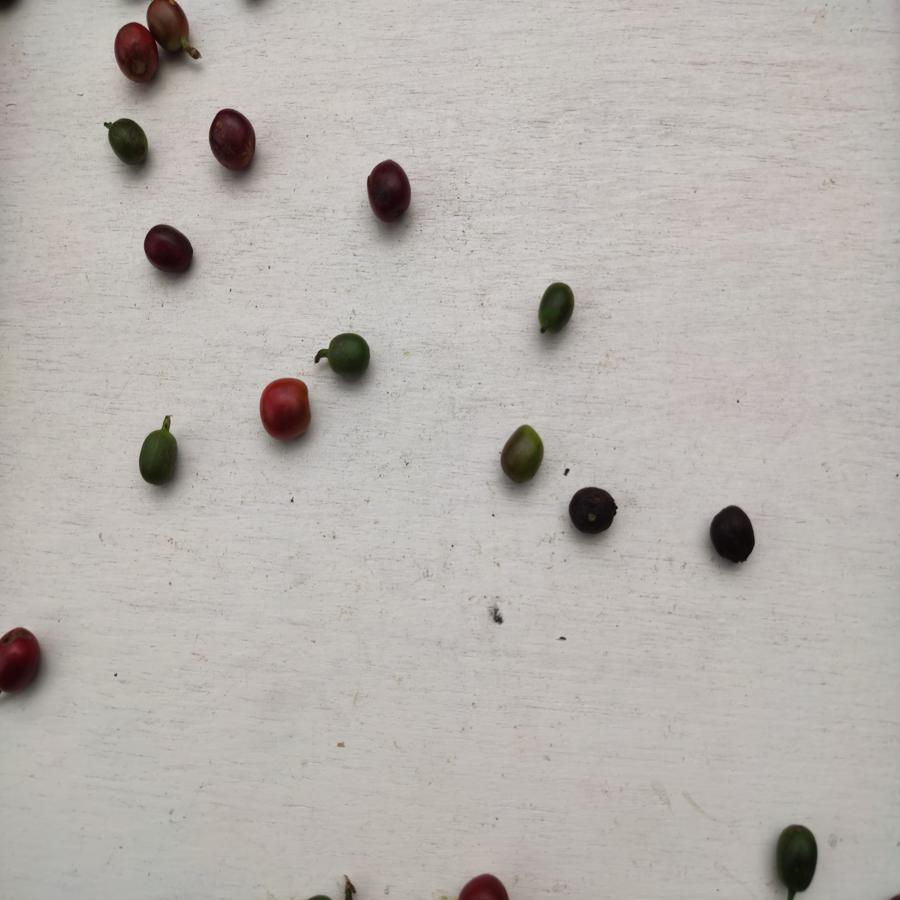Inmaduro: (776, 815, 821, 889), (136, 427, 184, 488), (535, 281, 581, 335), (322, 332, 370, 381), (104, 116, 146, 163)
Maduro: (258, 377, 319, 442)
Pinton: (499, 426, 545, 485)
Sobremaduro: (207, 106, 260, 174), (705, 506, 758, 569), (367, 158, 416, 223), (150, 1, 204, 59), (110, 22, 159, 83), (143, 221, 196, 277), (566, 480, 619, 535), (1, 625, 41, 697)
